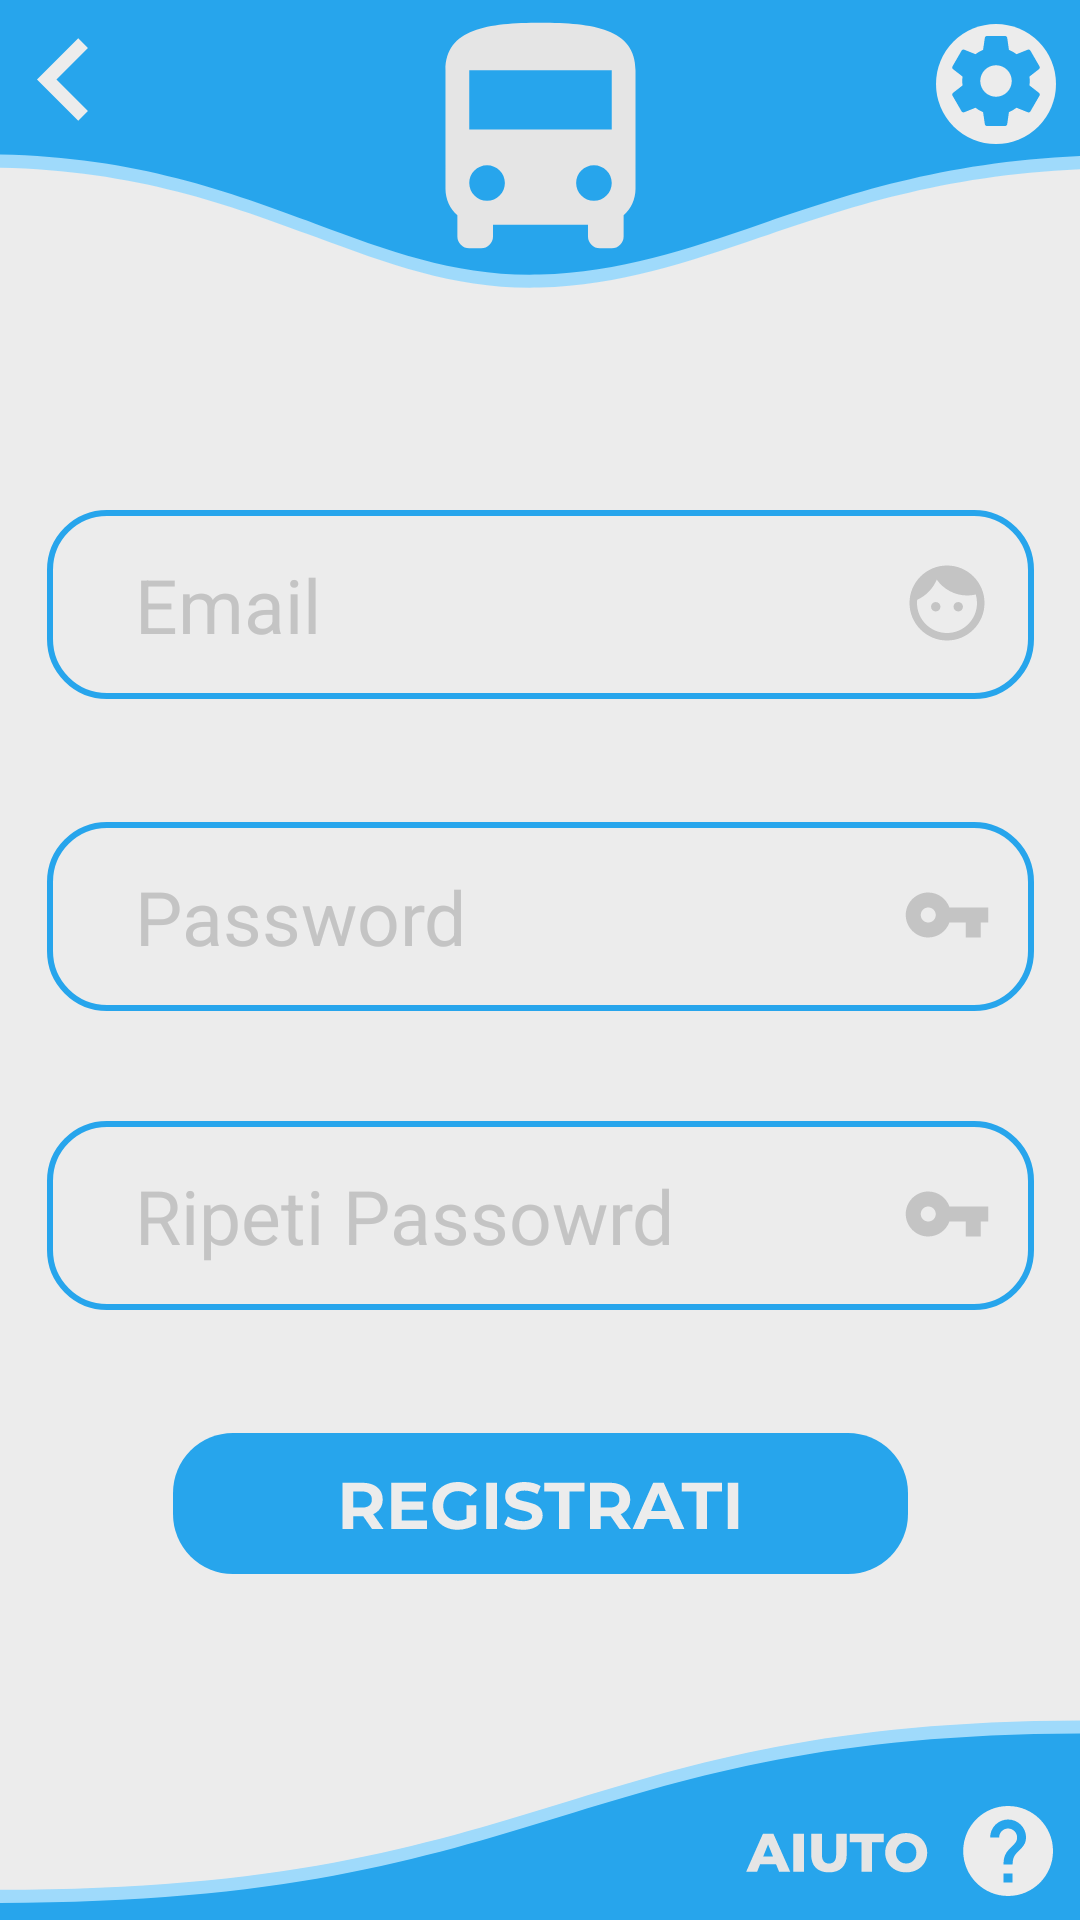

Icon click points for this 1080x1920 phone screenshot, format (x,y):
keyboard arrow left: (62,79)
settings: (996,84)
